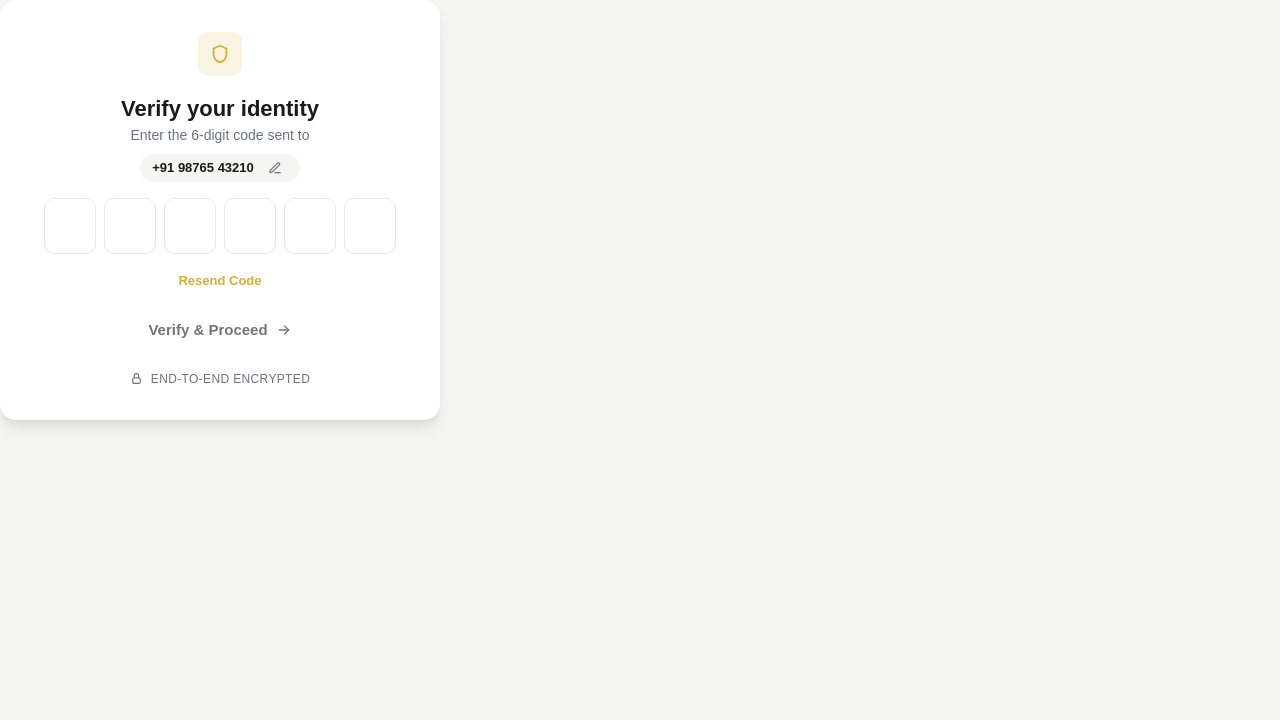
Test case: OtpForm › resending › reports a generic failure when resending fails for another reason
Step 1. Click the button "Resend Code" → {"x": 220, "y": 280}, box [172,270,268,291]
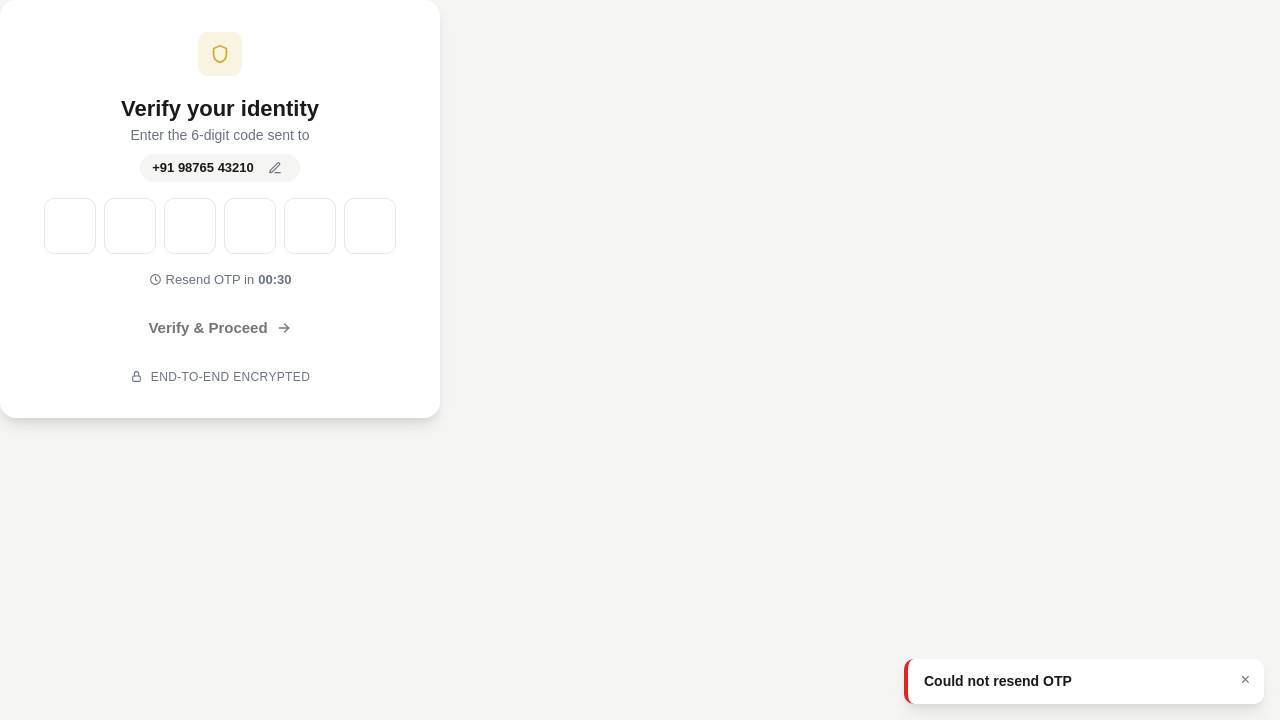
Expected: the text "Could not resend OTP" is shown, [924,673,1072,689]
